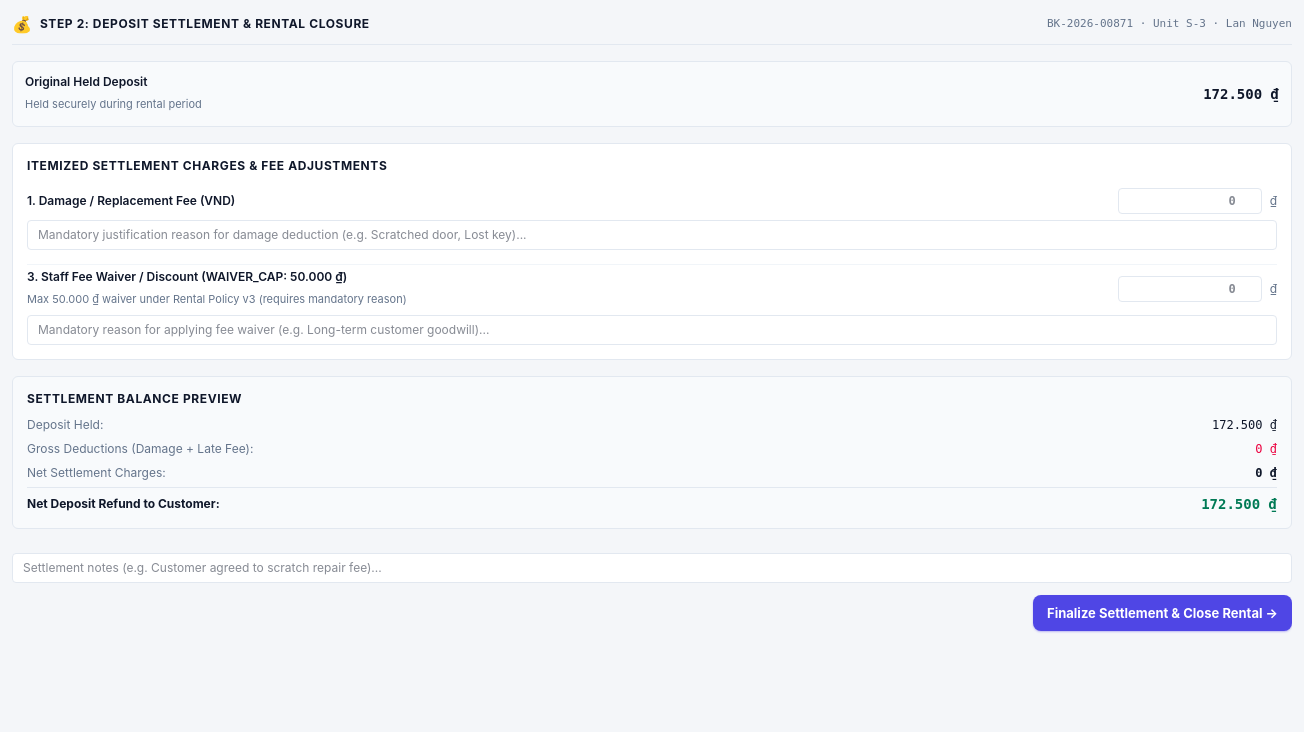
Story 6.4: Settlement waiver trong trần WAIVER_CAP (P2) › adjusts net deduction and increases refund when waiver is applied within WAIVER_CAP
Expected: the text with test id "deposit-held-display" reads "172.500 ₫", left=1203, top=86, right=1279, bottom=102
Type "40000" into the number field with test id "input-damage-fee".
click(1190, 201); type("40000")  # box left=1118, top=188, right=1262, bottom=214
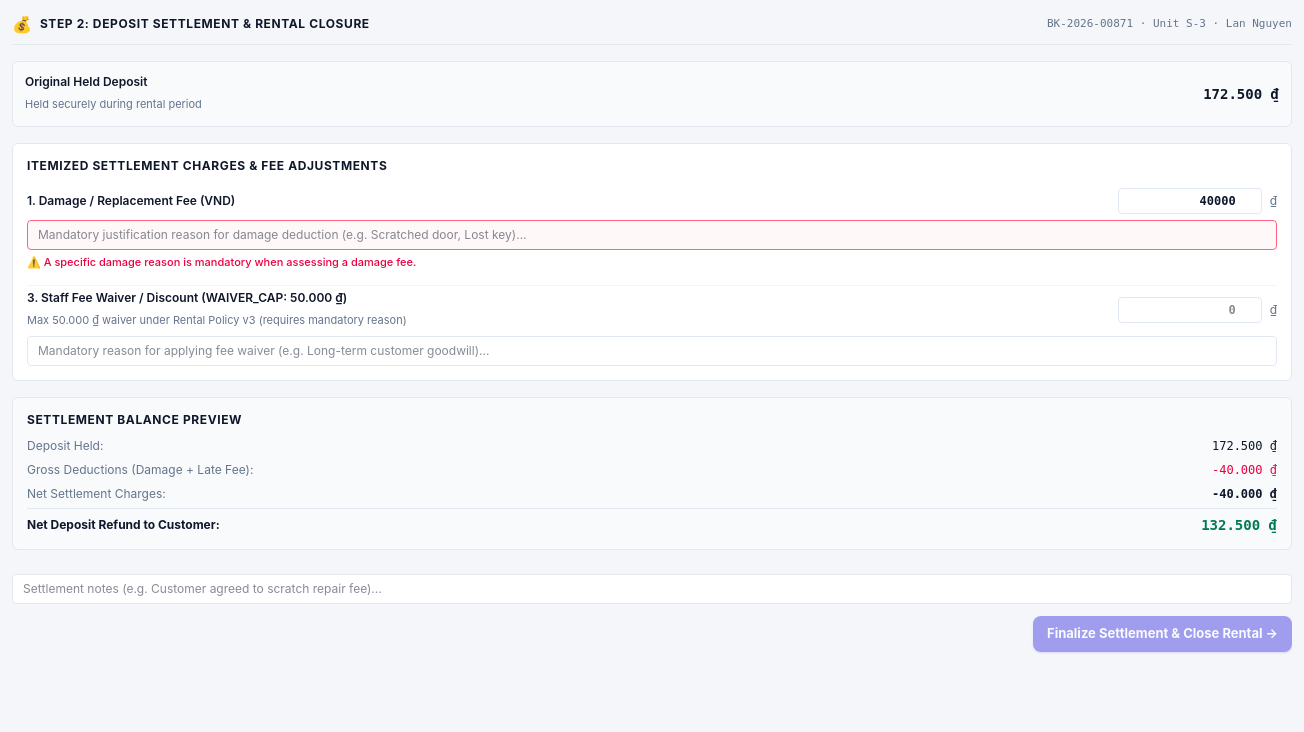
Replace the text in the field with test id "input-damage-reason" with "Scratched door panel" at (652, 235), box left=27, top=220, right=1277, bottom=250
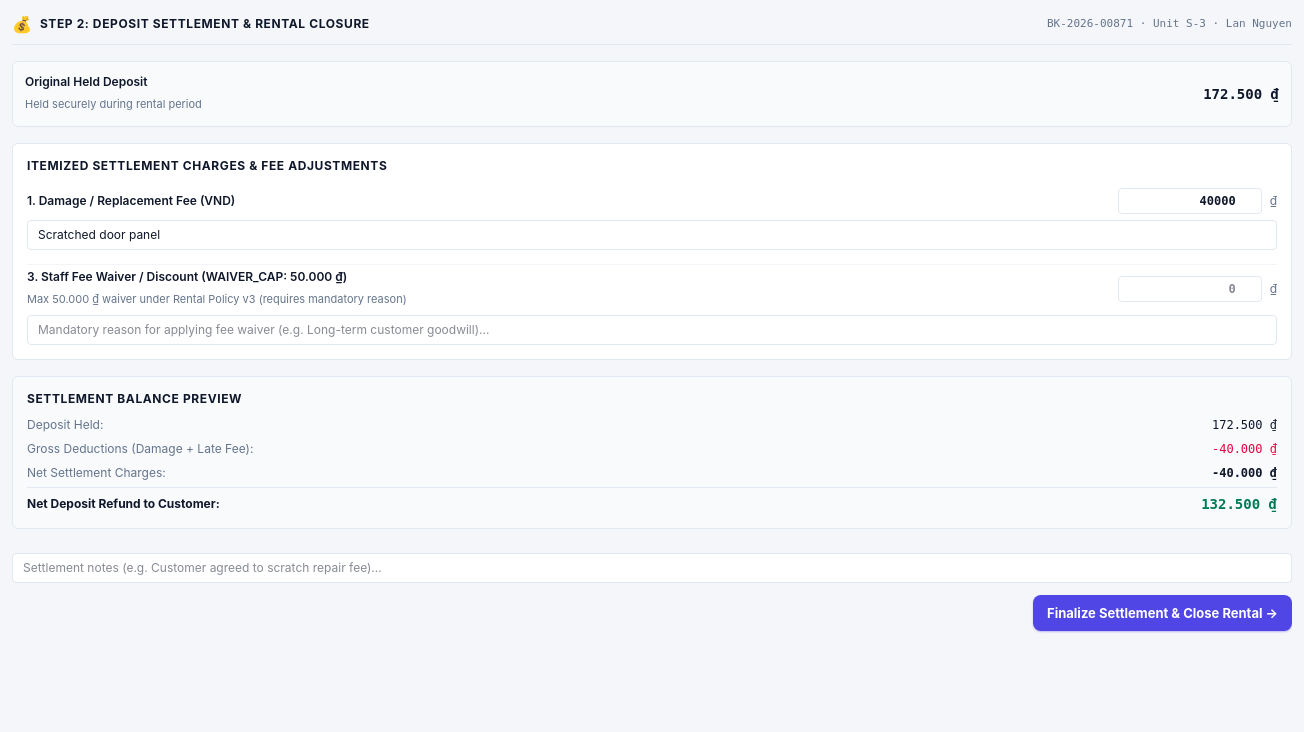
Expected: the text with test id "settlement-net-balance" reads "132.500 ₫", left=1201, top=496, right=1277, bottom=512
Type "20000" into the number field with test id "input-waiver-amount".
click(1190, 289); type("20000")  # box left=1118, top=276, right=1262, bottom=302
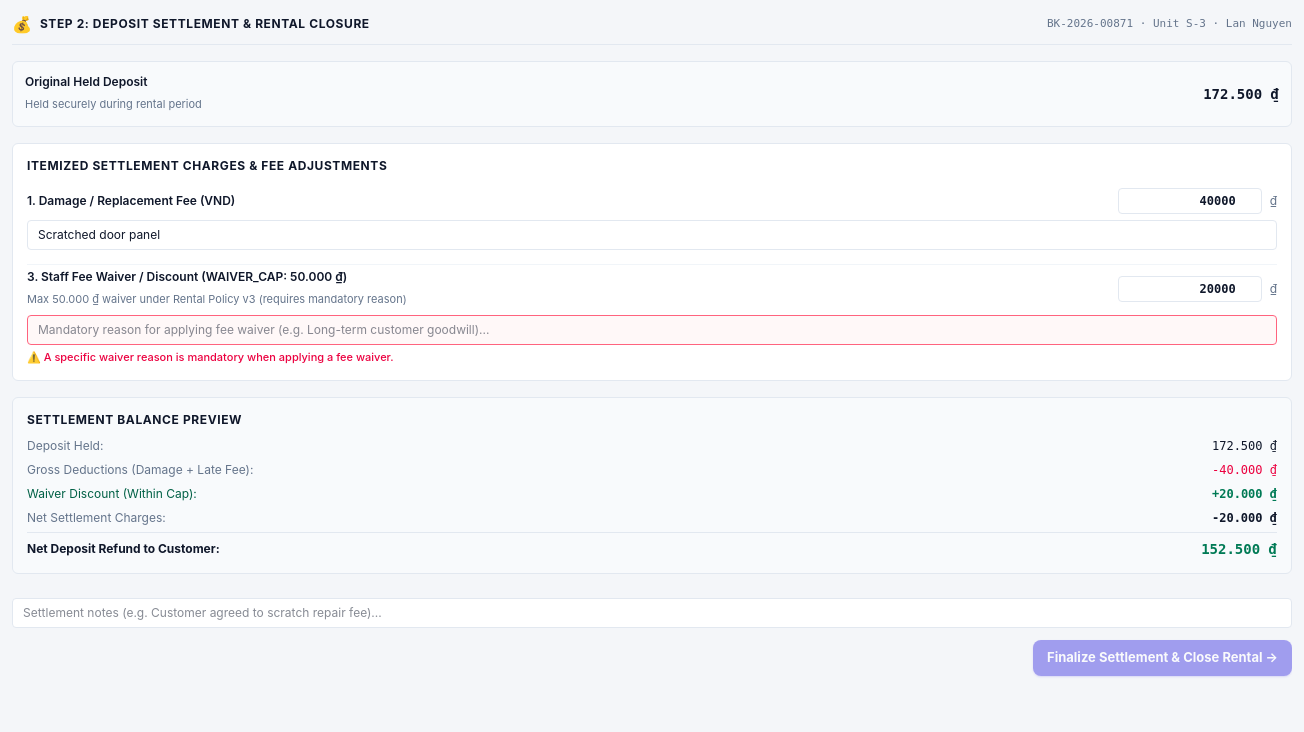
Replace the text in the field with test id "input-waiver-reason" with "Customer goodwill discount" at (652, 330), box left=27, top=315, right=1277, bottom=345
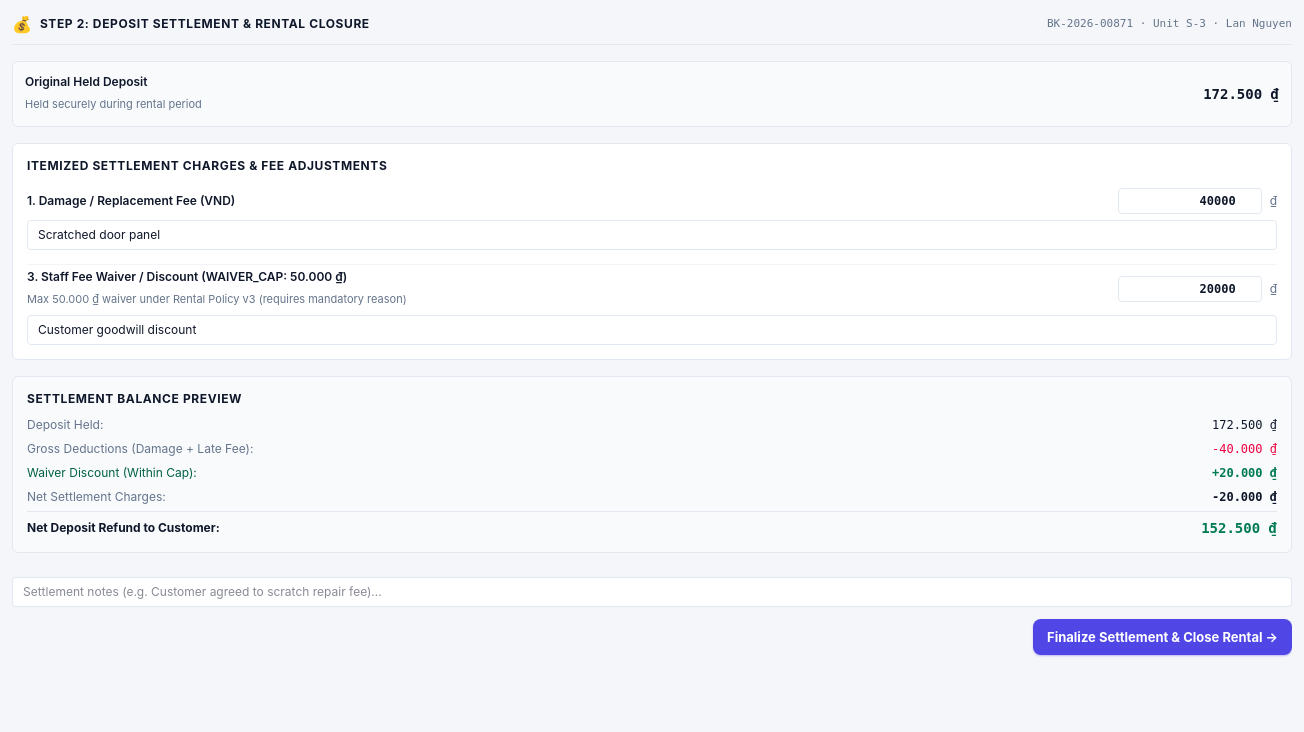
Expected: the text with test id "preview-waiver-amount" reads "+20.000 ₫", left=1212, top=465, right=1277, bottom=481
Expected: the text with test id "settlement-net-balance" reads "152.500 ₫", left=1201, top=520, right=1277, bottom=536
Expected: the button with test id "btn-finalize-settlement" is enabled, left=1033, top=619, right=1292, bottom=655
